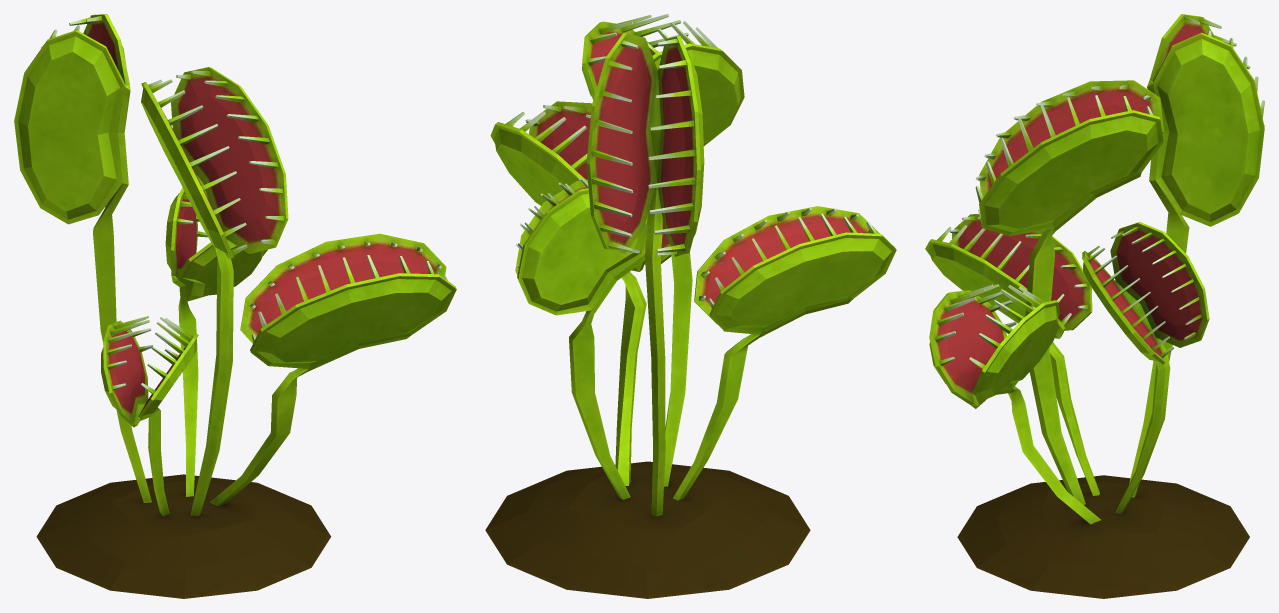
File: trap-flytrap-real.glb
3 renders of one model, left to right at view 1: azimuth 30°, elevation 25°; view 2: azimuth 150°, elevation 25°; view 3: azimuth 270°, elevation 25°, orthographic. The views are drawn at different scales.
Parts seen in each view (by area): view 1: VenusFlyTrap_mesh; view 2: VenusFlyTrap_mesh; view 3: VenusFlyTrap_mesh.
Boxes of the visible parts, <box> form: VenusFlyTrap_mesh: <box>14,14,456,598</box>; VenusFlyTrap_mesh: <box>485,14,896,598</box>; VenusFlyTrap_mesh: <box>925,14,1264,598</box>.
Size of the model in its own units: 8.08 by 10.81 by 6.79.
Materials: 1 (1 with a texture image).
